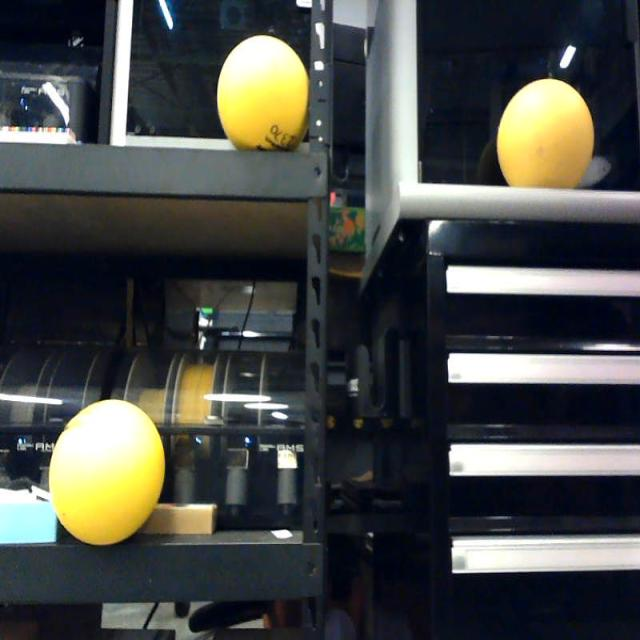Fuel: (49, 399, 165, 546), (217, 34, 313, 156), (497, 78, 594, 195)
